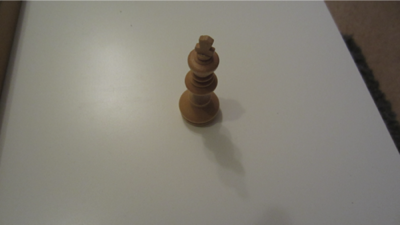white-king: (176, 33, 222, 128)
